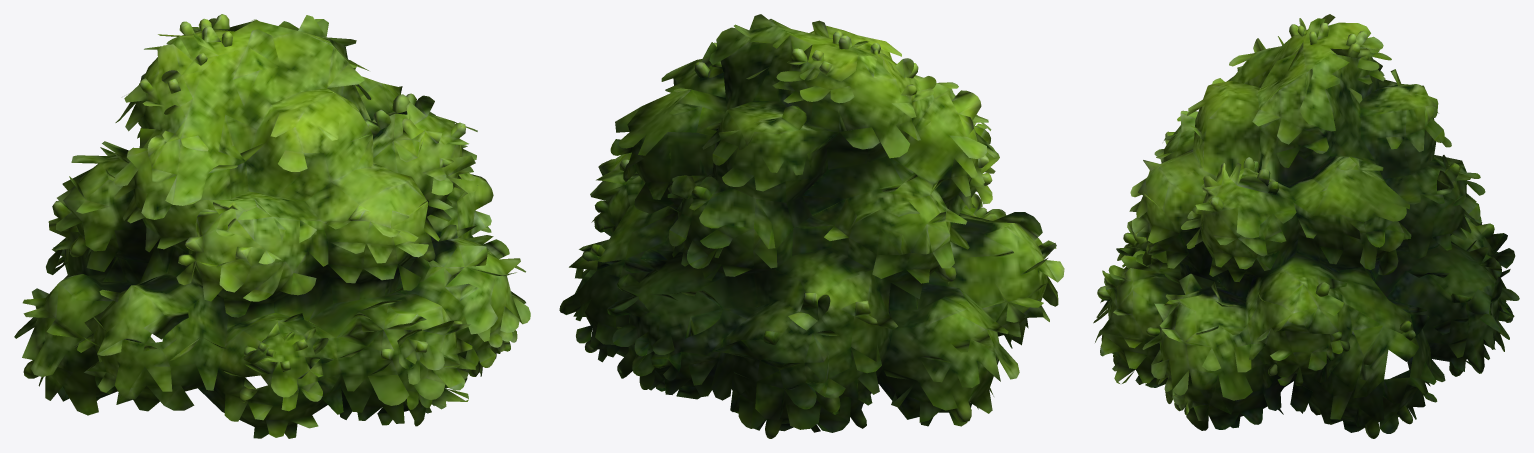
File: bush.glb
3 renders of one model, left to right at view 1: azimuth 30°, elevation 25°; view 2: azimuth 150°, elevation 25°; view 3: azimuth 270°, elevation 25°, orthographic. The views are drawn at different scales.
Size of the model in its own units: 1.6 by 1.24 by 1.49.
Materials: 1 (1 with a texture image).
